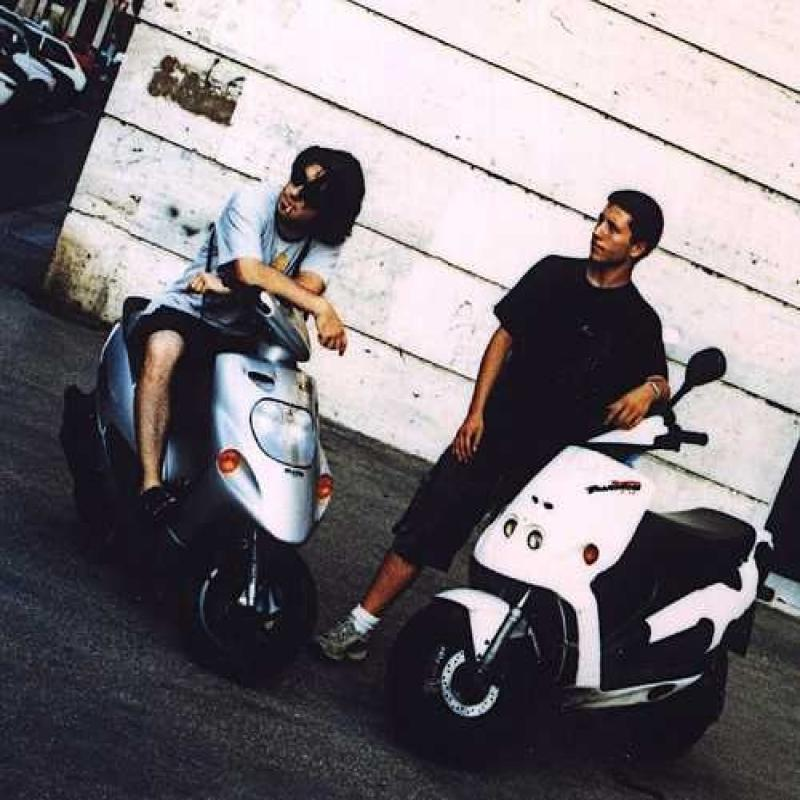bike: (188, 251, 356, 666)
